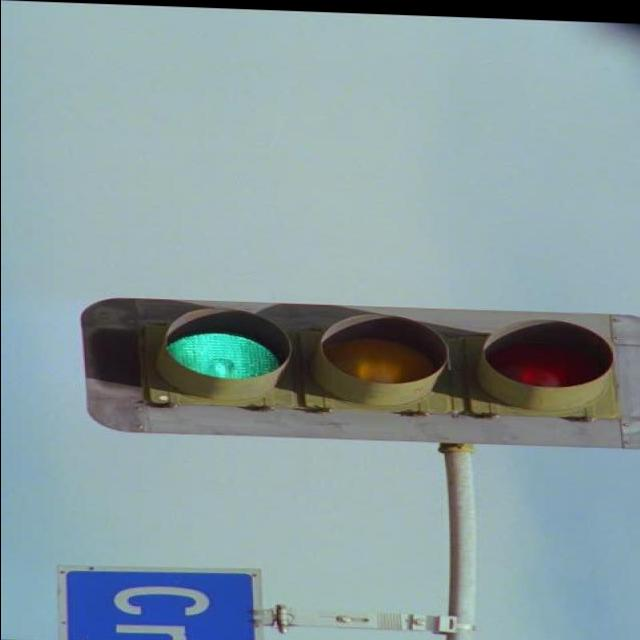green light: (141, 308, 615, 416)
